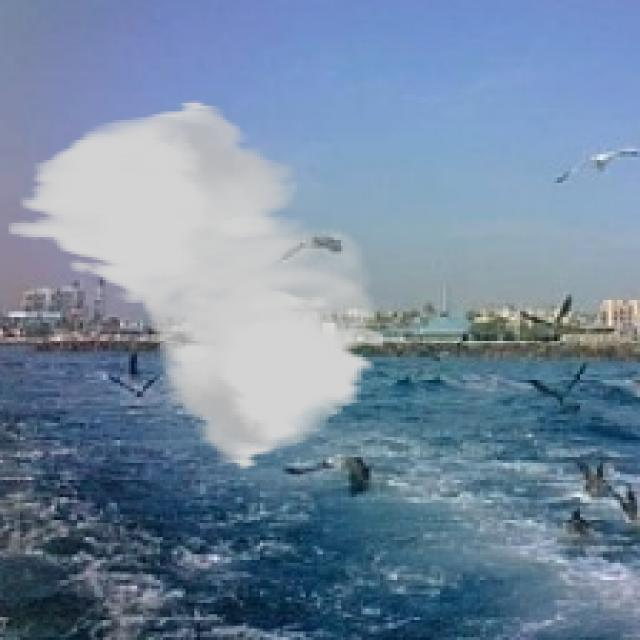smoke: (8, 100, 386, 471)
